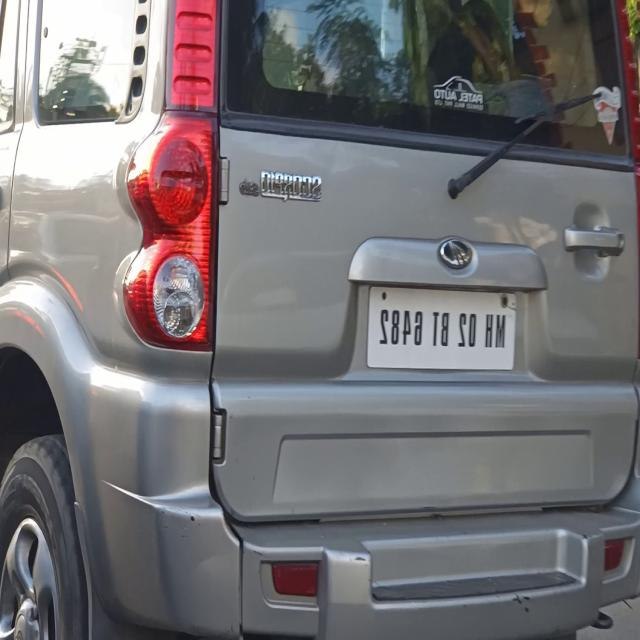license_plate: (361, 276, 520, 379)
